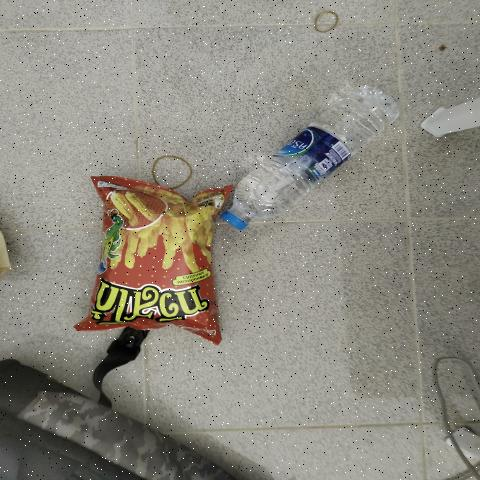crystal: (224, 110, 382, 222)
twisco: (94, 176, 207, 328)
